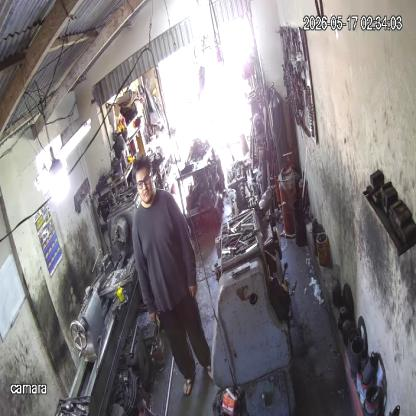lentes: (134, 172, 152, 190)
